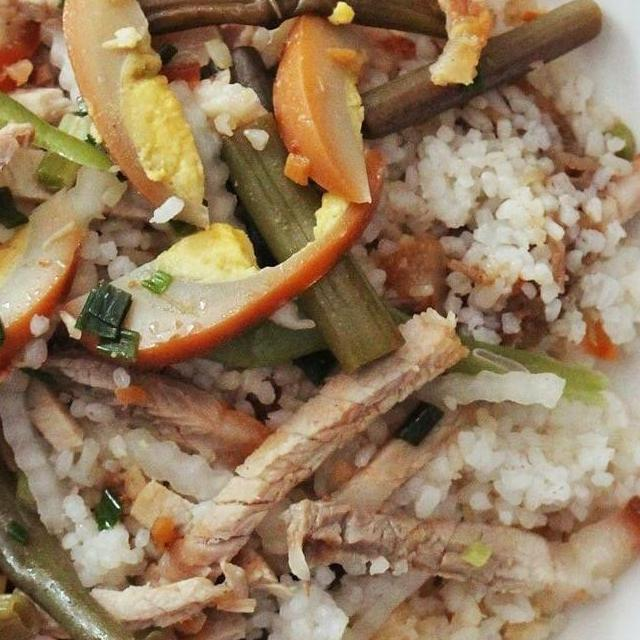com: (343, 76, 640, 391), (389, 356, 640, 540), (234, 559, 593, 640)
com suon trung: (0, 0, 640, 640)
dua chua: (0, 341, 243, 640), (199, 41, 410, 380), (0, 0, 149, 233), (116, 0, 458, 52)
suon: (114, 296, 475, 618)
trung: (45, 144, 392, 369), (56, 0, 222, 238), (261, 6, 381, 215), (0, 171, 92, 442)
